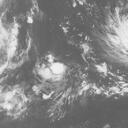cyclone: (102, 9, 127, 62), (35, 54, 67, 84)
